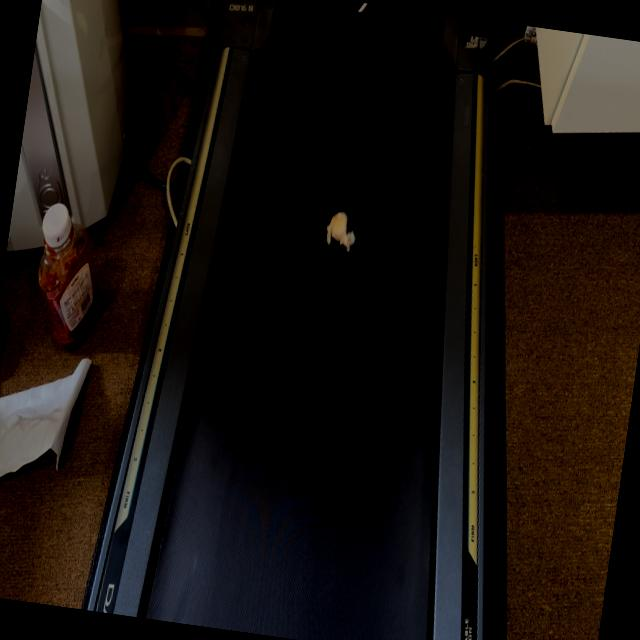Trash: (324, 210, 359, 253)
